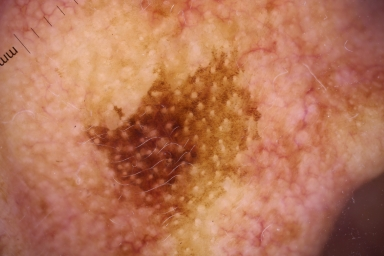melanoma: (83, 43, 259, 231)
